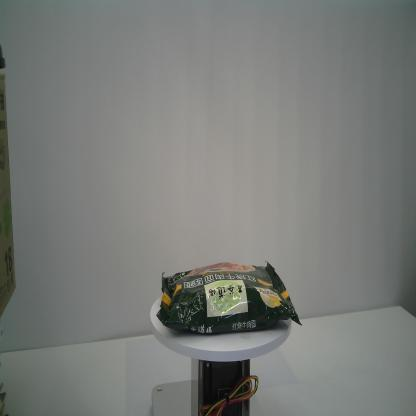Instant Noodles: (156, 260, 303, 334)
